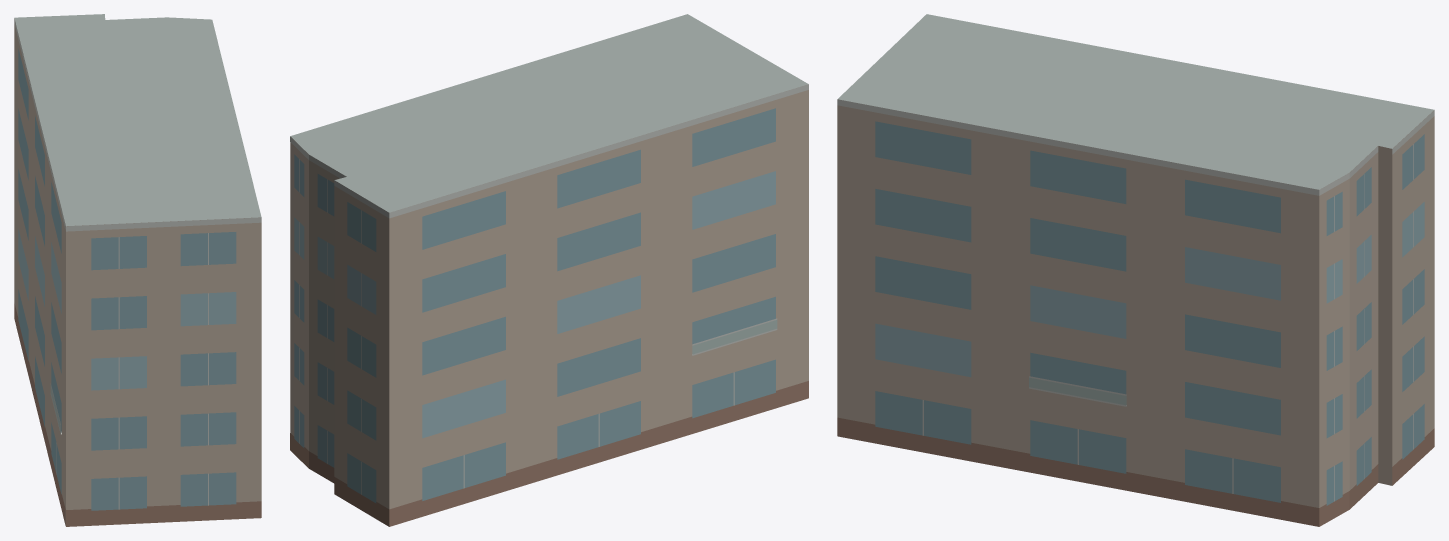
The model's file is survey-upis-32768374.glb.
3 views of the same model, side by side, from view 1: azimuth 30°, elevation 25°; view 2: azimuth 150°, elevation 25°; view 3: azimuth 270°, elevation 25° (orthographic). The views are drawn at different scales.
Visible parts, largest first — view 1: survey-upis-32768374.tmp; view 2: survey-upis-32768374.tmp; view 3: survey-upis-32768374.tmp.
Boxes of the visible parts, x1,y1,x2,y2 form: survey-upis-32768374.tmp: (14, 14, 261, 526); survey-upis-32768374.tmp: (290, 14, 808, 526); survey-upis-32768374.tmp: (837, 14, 1434, 526).
Bounding box in the file's own units: 15.22 × 13.6 × 21.85.
